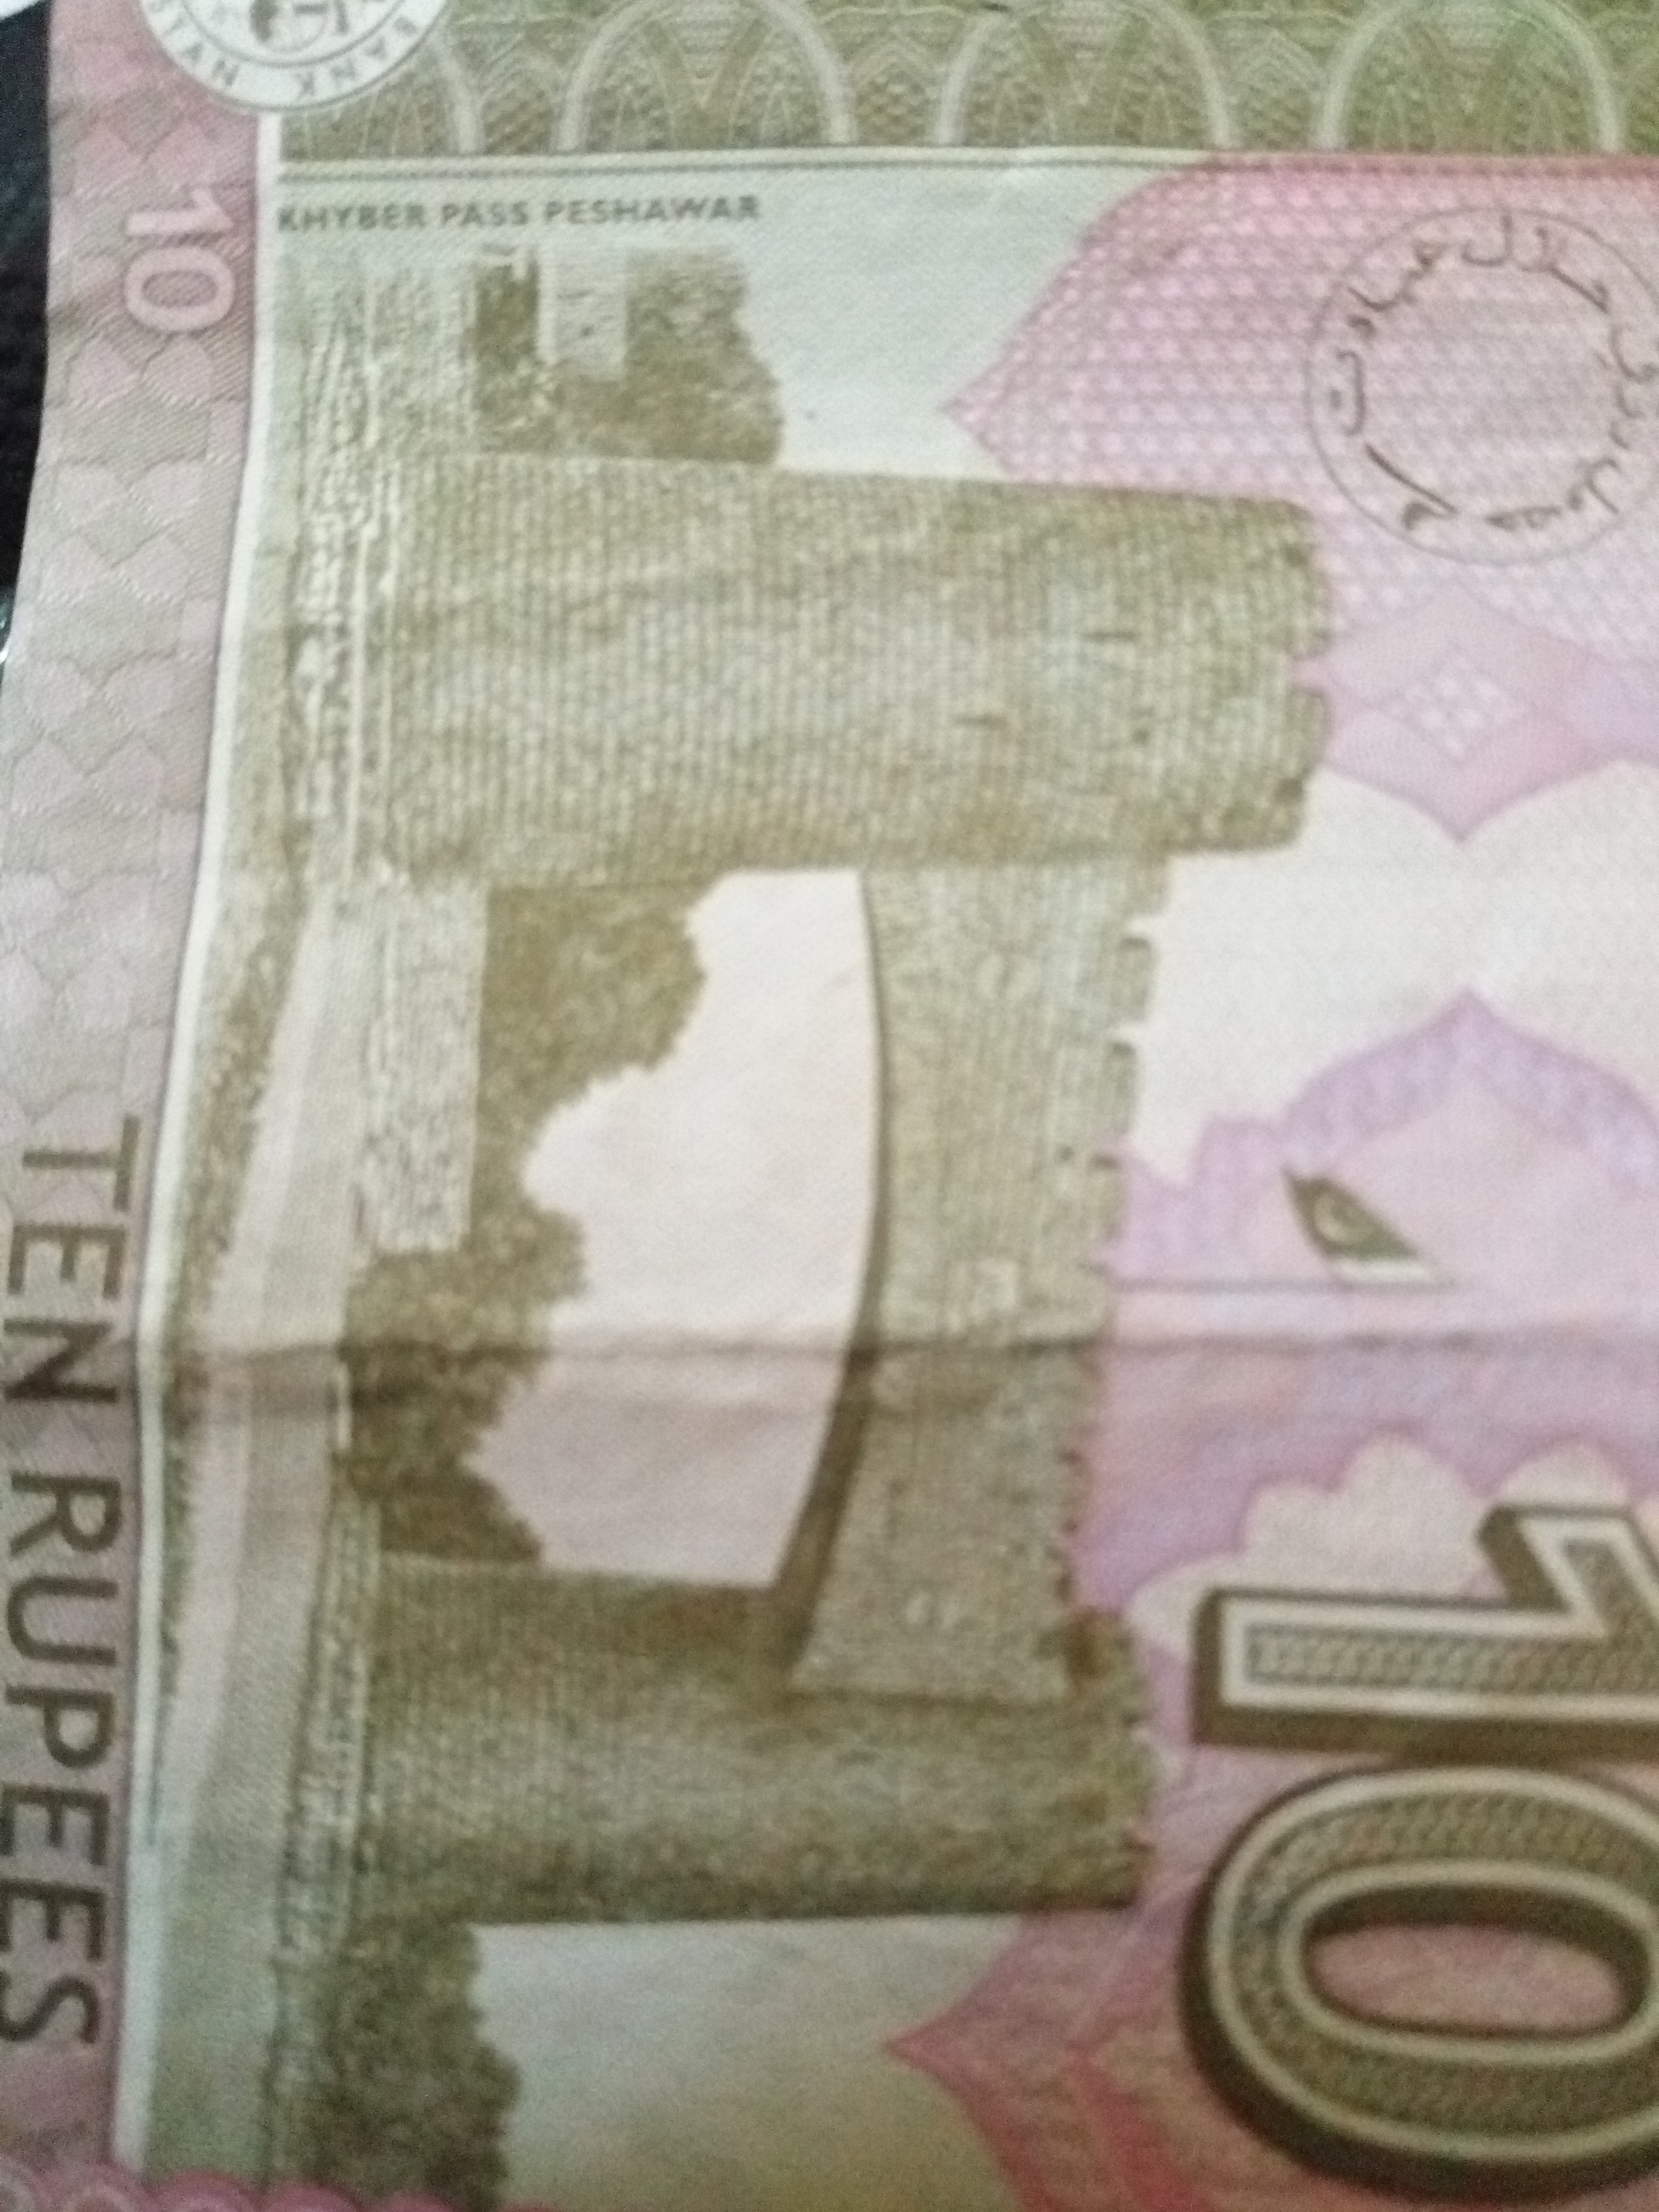10 rupee: (16, 33, 1635, 2189)
